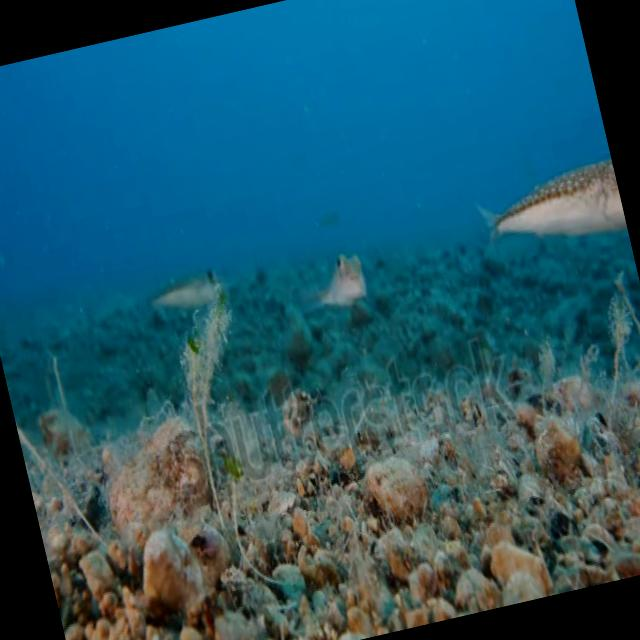Balon Baligi: (463, 136, 628, 261), (130, 250, 238, 321), (304, 231, 372, 321)
